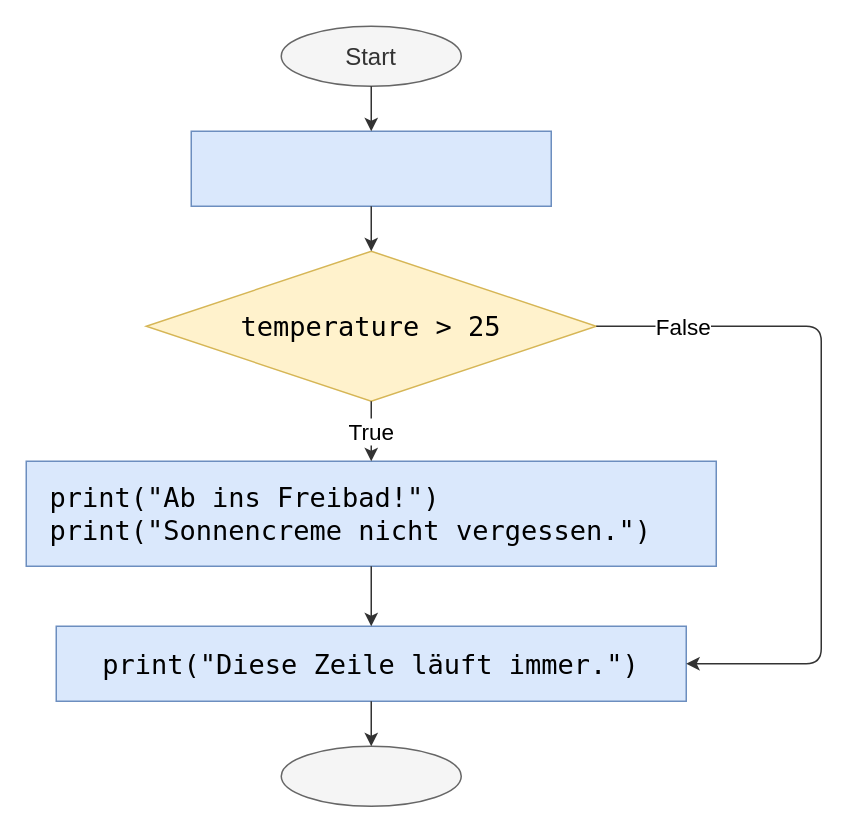
This 860x833 diagram has some shape labels left out. Here are the shapes that lost their labels. From the top down, the centre of each, then its label:
the point at 370,168: temperature = 28
the point at 370,775: Ende
